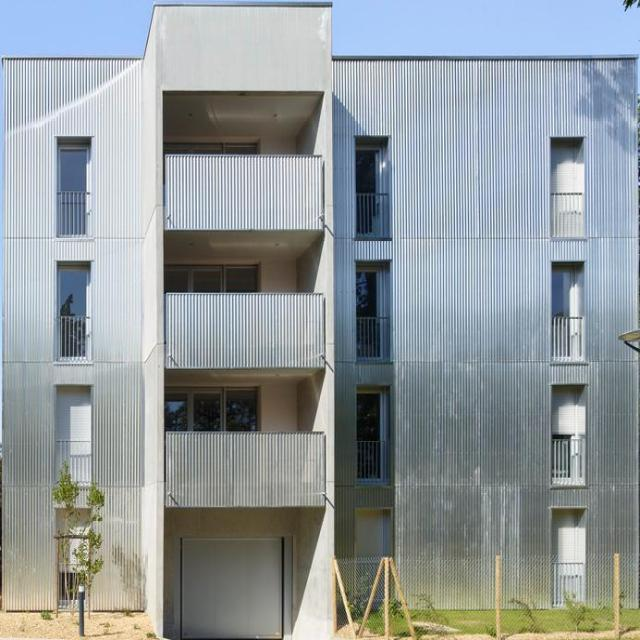door: (181, 531, 282, 633)
railing: (548, 191, 584, 239), (353, 192, 389, 239), (549, 437, 583, 483), (552, 563, 586, 609), (53, 439, 90, 481), (355, 314, 389, 359), (355, 438, 386, 483), (550, 316, 582, 358), (57, 191, 87, 235), (58, 316, 86, 360), (358, 555, 390, 585)
window: (162, 389, 259, 429), (165, 266, 260, 294), (54, 386, 93, 439), (58, 263, 88, 315), (355, 509, 384, 556), (552, 511, 577, 561), (552, 388, 578, 435), (163, 140, 256, 153), (551, 142, 576, 189), (61, 144, 83, 189), (550, 265, 569, 316), (356, 264, 376, 312), (359, 388, 378, 438), (355, 149, 375, 191)
